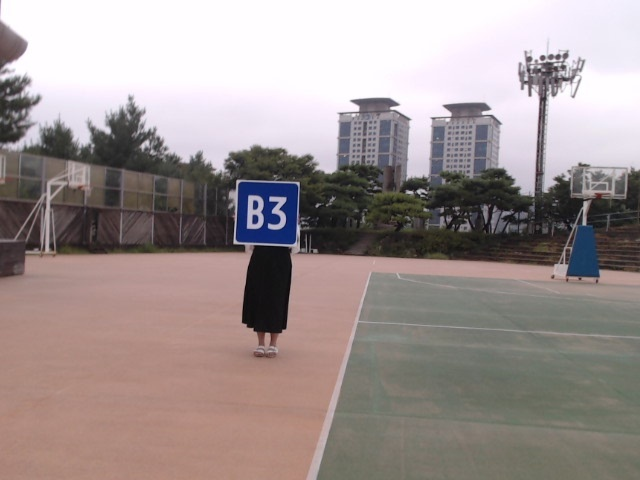delivery_b3: (235, 181, 298, 246)
